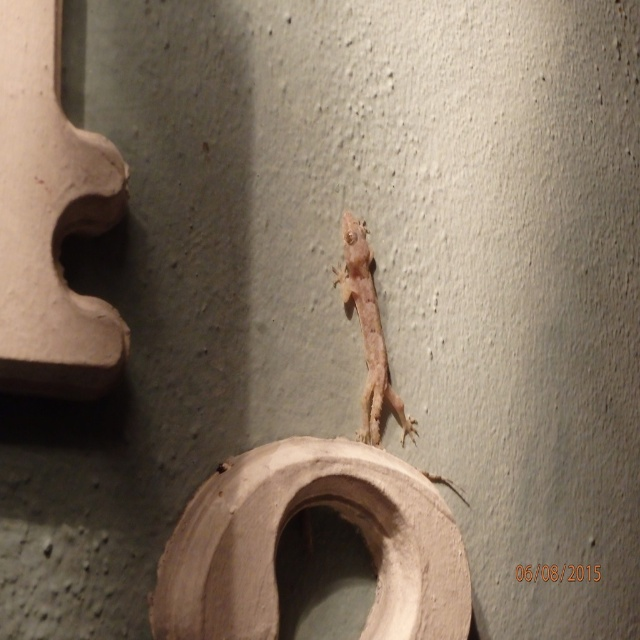Lizard: (338, 228, 459, 497)
